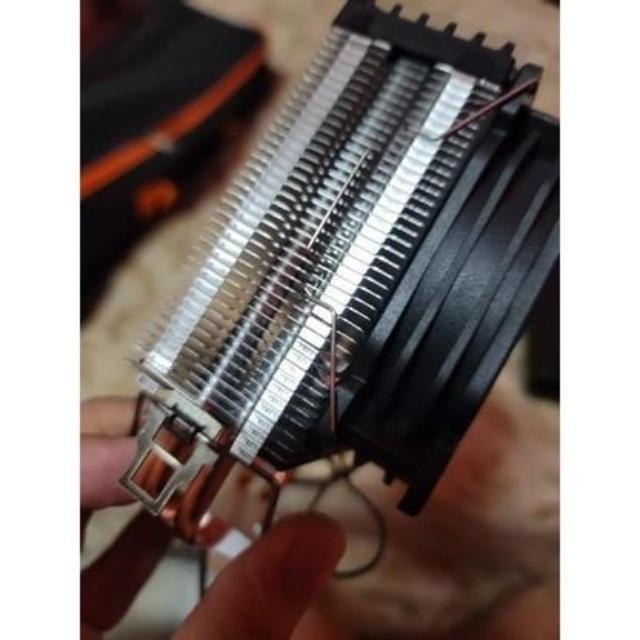CPU_Fan: (118, 0, 560, 532)
